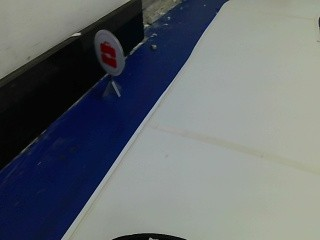company: (89, 27, 127, 76)
